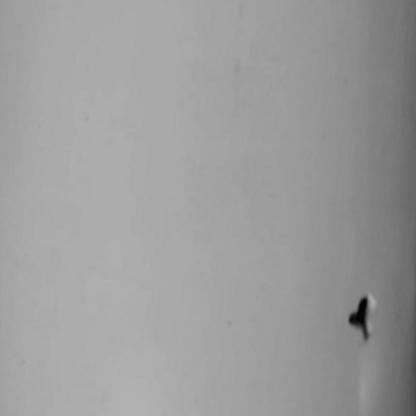kongdong: (331, 282, 387, 349)
